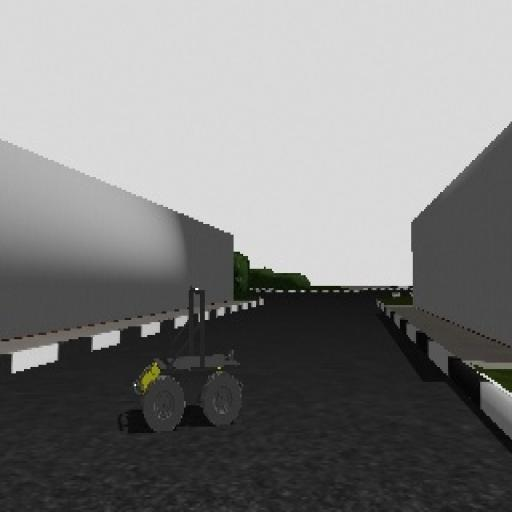huskya200: (114, 278, 256, 443)
